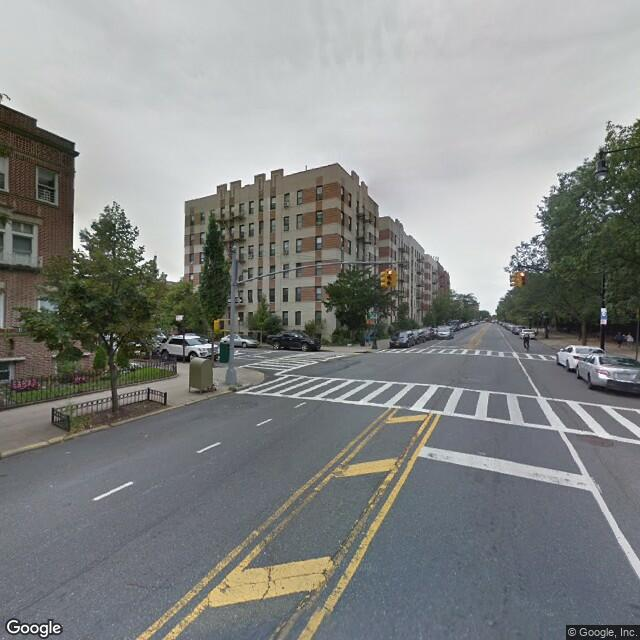litter: (64, 450, 73, 455)
